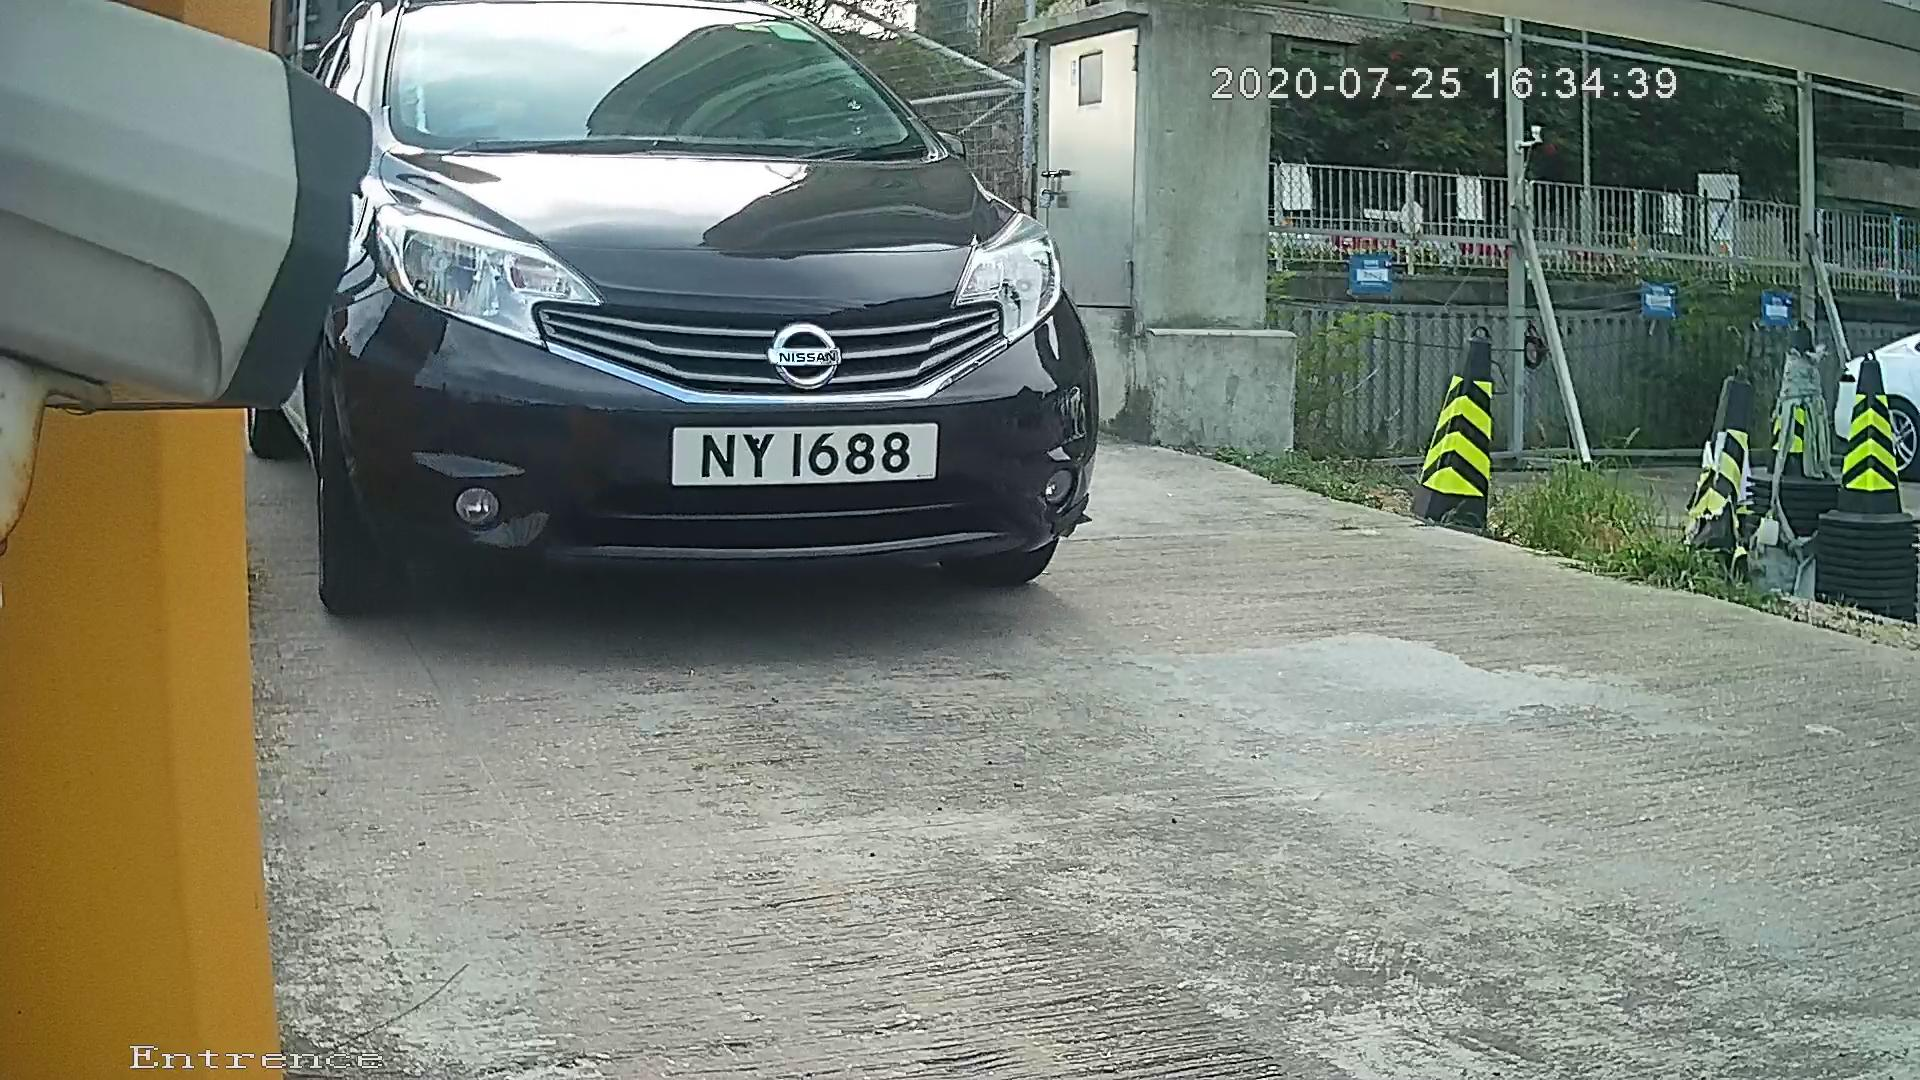Car: (155, 1, 1209, 656)
License Plate: (643, 415, 961, 497)
